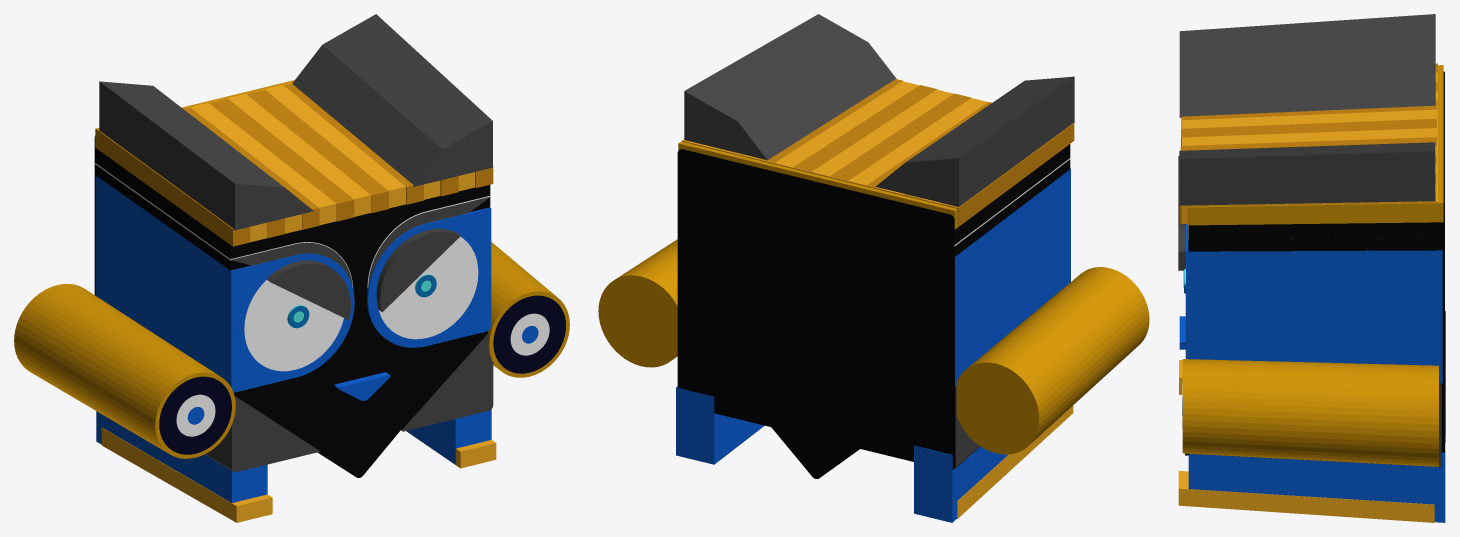
Rendered from blockGodSet1.glb.
3 views of the same model, side by side, from view 1: azimuth 30°, elevation 25°; view 2: azimuth 150°, elevation 25°; view 3: azimuth 270°, elevation 25° (orthographic). The views are drawn at different scales.
Parts seen in each view (by area): view 1: path412; view 2: path412; view 3: path412.
Boxes of the visible parts, x1=… form: path412: x1=14, y1=14, x2=569, y2=522; path412: x1=598, y1=14, x2=1149, y2=522; path412: x1=1178, y1=14, x2=1445, y2=522.
Size of the model in its own units: 2.1 by 1.64 by 1.08.
